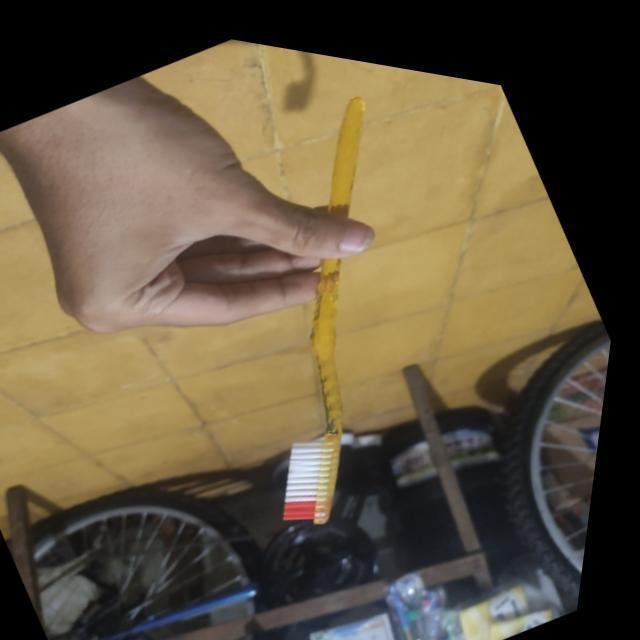toothbrush: (74, 17, 626, 591)
